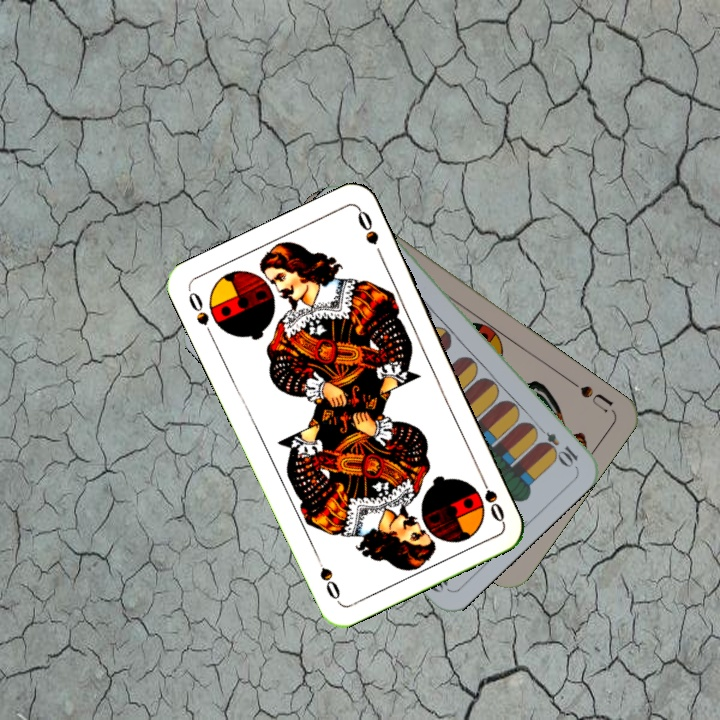E10: (531, 420, 581, 469)
SO: (184, 286, 217, 342), (475, 469, 507, 525)
SU: (564, 375, 616, 416)
